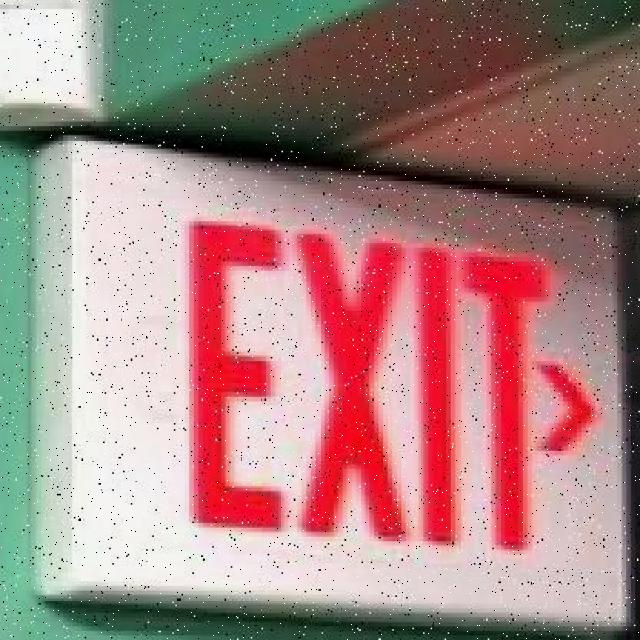emergency_exit: (29, 133, 635, 626), (183, 214, 600, 553)
